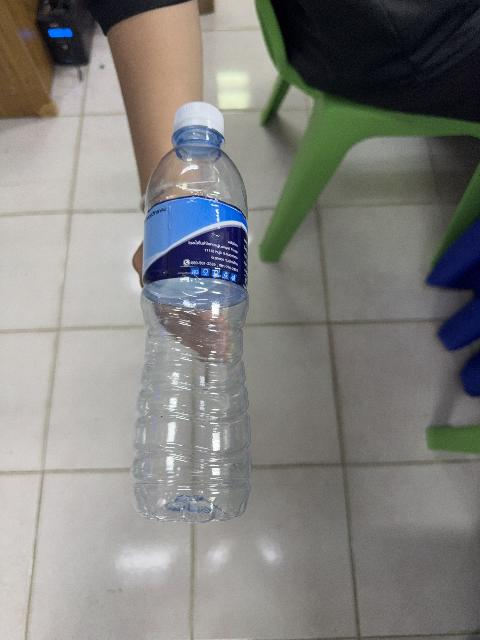bottle: (132, 103, 250, 522)
